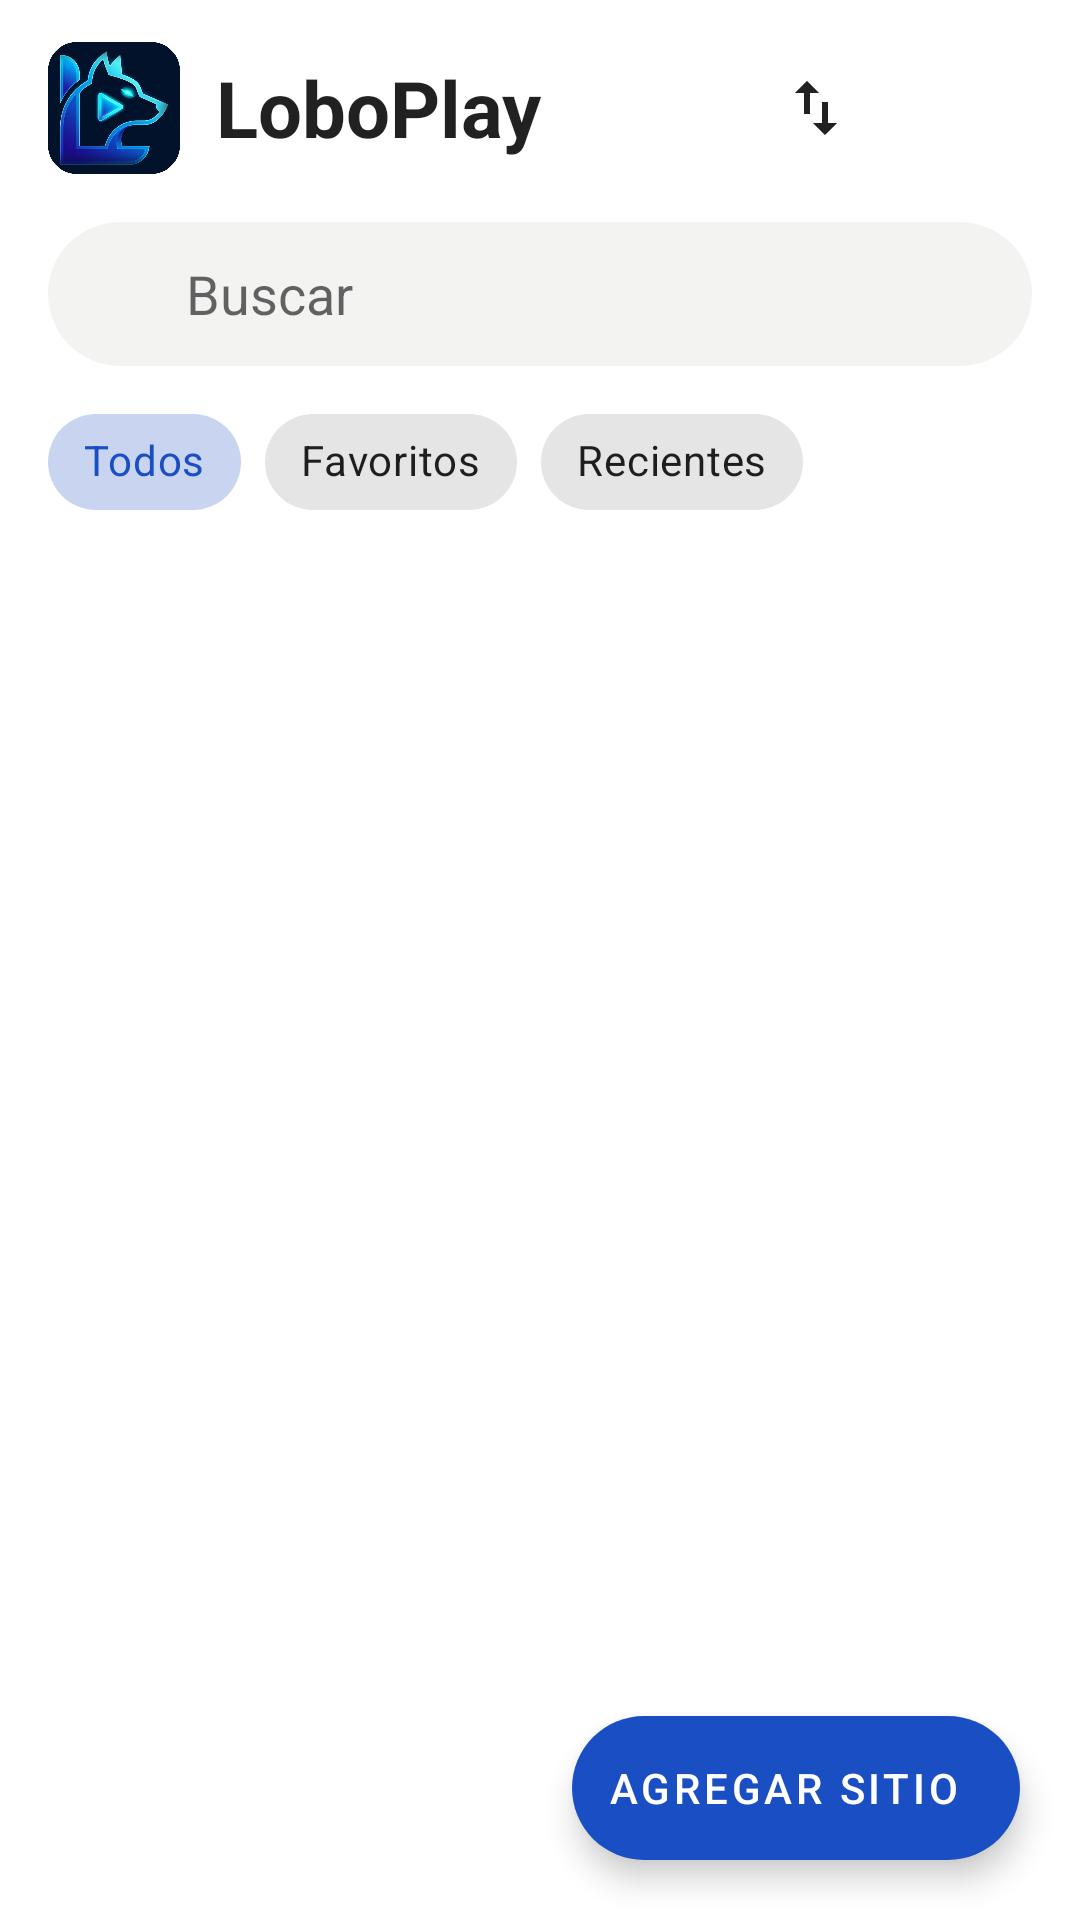

Named icons in this screenshot (1080x1920) and their centers, point (x, y):
Ordenar: point (816, 108)
